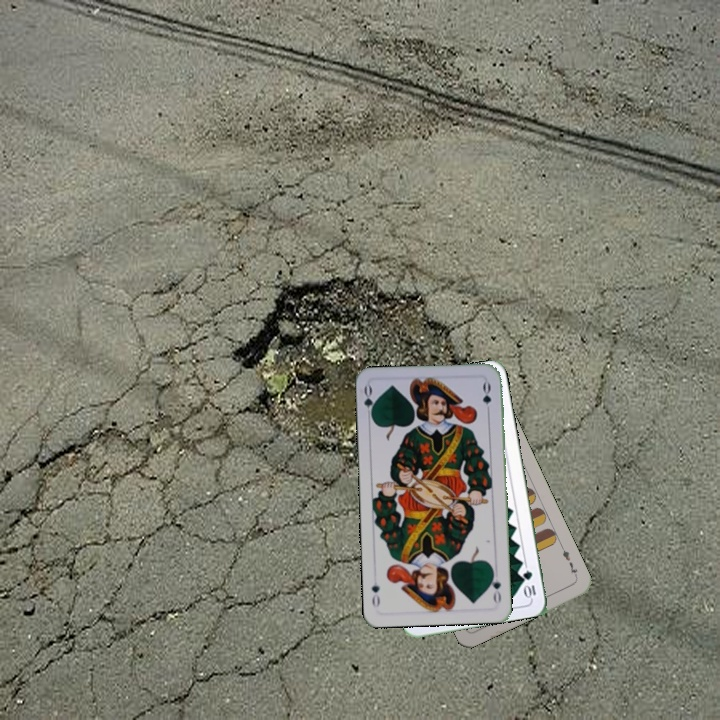E7: (557, 542, 580, 581)
G10: (519, 566, 538, 601)
GO: (360, 382, 378, 423), (486, 566, 503, 606)
